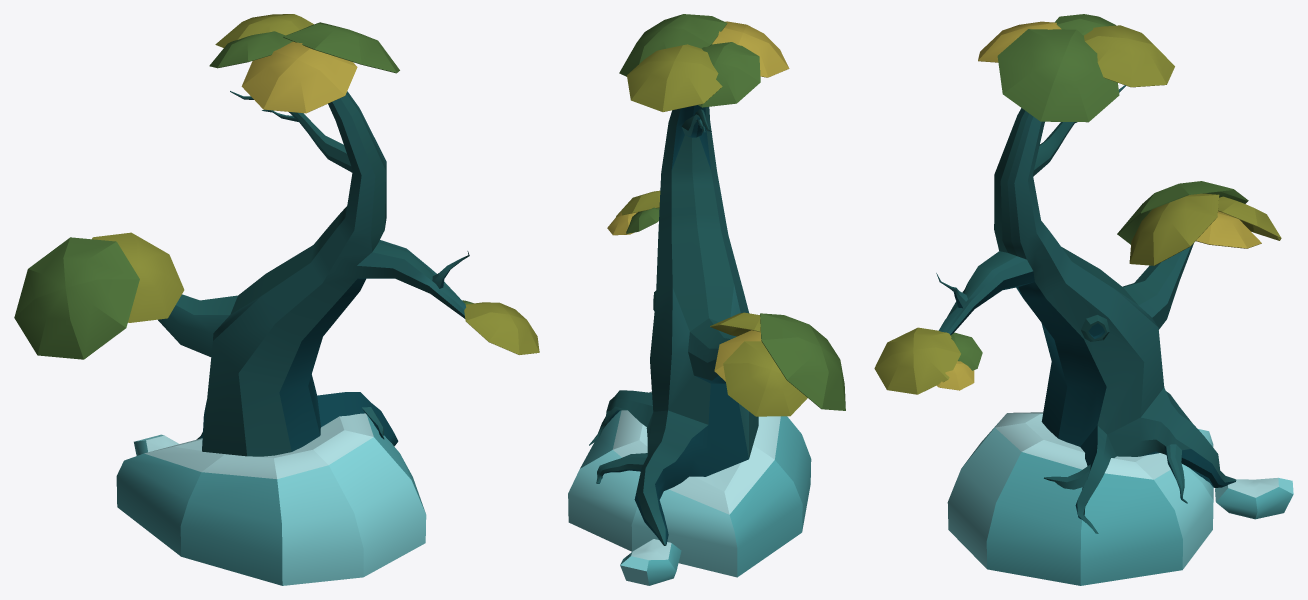
Rendered from ArvoreFruto_Ana_Colorido.fbx.
3 renders of one model, left to right at view 1: azimuth 30°, elevation 25°; view 2: azimuth 150°, elevation 25°; view 3: azimuth 270°, elevation 25°, orthographic. The views are drawn at different scales.
Visible parts, largest first — view 1: pCylinder11, pCylinder10, pSphere5, pSphere12, pSphere4, pSphere10, pSphere7, pSphere11, pSphere13; view 2: pCylinder11, pCylinder10, pSphere5, pSphere13, pSphere6, pSphere10, pSphere11, pCylinder12, pSphere12, pSphere4, pSphere3, pSphere7 (+2 smaller); view 3: pCylinder11, pCylinder10, pSphere10, pSphere7, pSphere4, pSphere13, pCylinder12, pSphere5, pSphere3, pSphere6, pSphere12, pSphere11 (+2 smaller).
Part boxes in pixels (x1,y1,x2,y2): pCylinder11: (158, 91, 469, 456); pCylinder10: (116, 413, 426, 585); pSphere5: (14, 237, 139, 359); pSphere12: (241, 41, 357, 113); pSphere4: (92, 232, 184, 322); pSphere10: (283, 22, 399, 73); pSphere7: (464, 302, 539, 354); pSphere11: (209, 31, 292, 68); pSphere13: (215, 14, 313, 47); pCylinder11: (589, 105, 758, 545); pCylinder10: (568, 391, 811, 577); pSphere5: (760, 313, 845, 410); pSphere13: (627, 44, 722, 111); pSphere6: (723, 341, 807, 416); pSphere10: (619, 14, 727, 76); pSphere11: (698, 42, 760, 107); pCylinder12: (620, 539, 681, 585); pSphere12: (712, 21, 789, 77); pSphere4: (710, 312, 760, 336); pSphere3: (714, 330, 761, 381); pSphere7: (616, 190, 660, 216); pCylinder11: (936, 85, 1236, 533); pCylinder10: (947, 412, 1213, 585); pSphere10: (997, 29, 1119, 122); pSphere7: (874, 327, 960, 394); pSphere4: (1129, 193, 1219, 265); pSphere13: (1084, 25, 1174, 87); pCylinder12: (1215, 477, 1293, 519); pSphere5: (1117, 181, 1248, 244); pSphere3: (1196, 211, 1261, 248); pSphere6: (1218, 196, 1281, 240); pSphere12: (978, 21, 1061, 62); pSphere11: (1054, 14, 1115, 35).
Bounding box in the file's own units: 2231 × 2923 × 2213.
